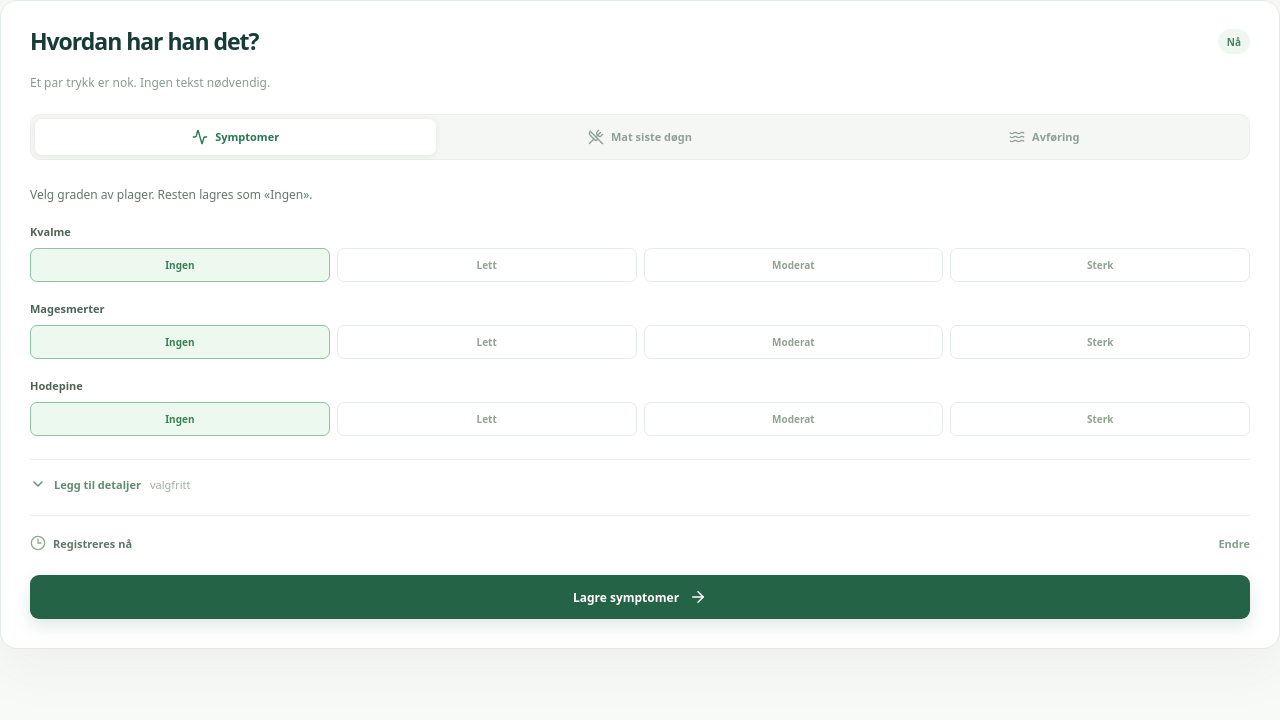
entry form navigation › keeps the form locked until an in-flight save completes
Check: the element named "Når?" is not empty, box [30, 515, 1250, 554]
Click the button "Lagre symptomer": x=640, y=597 [30, 575, 1250, 619]
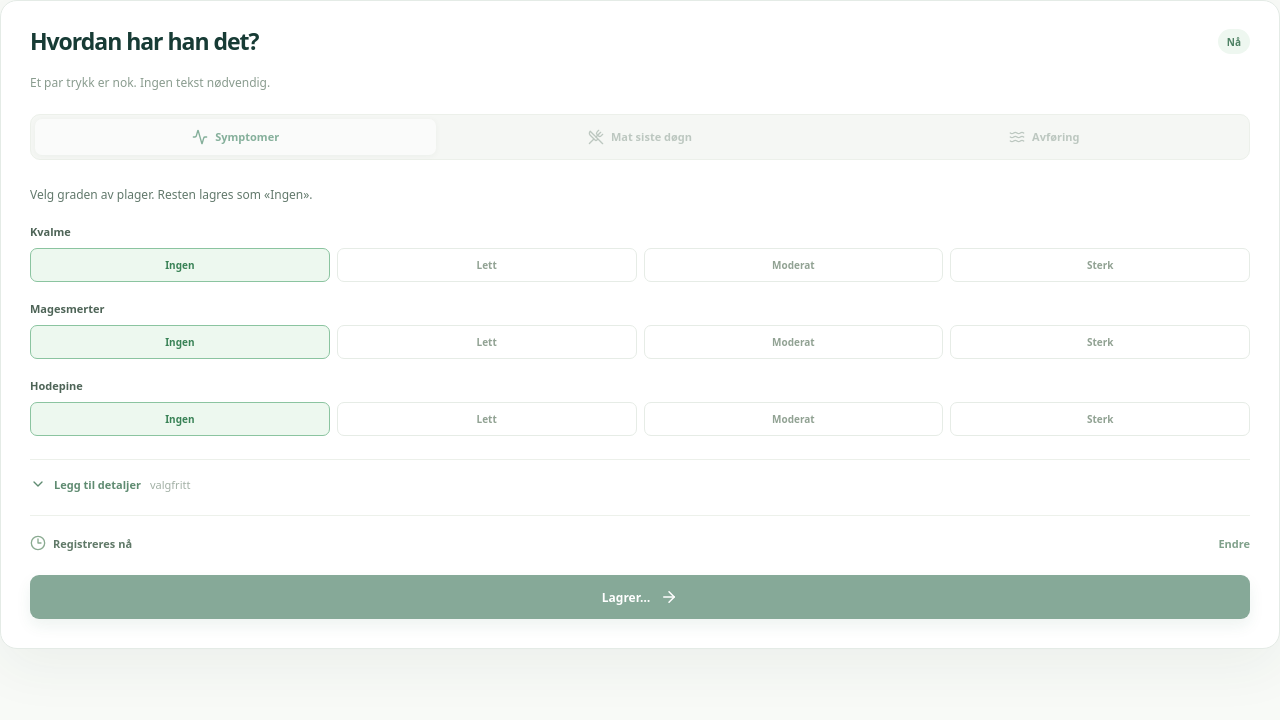
Check: the element named "Når?" is disabled, box [30, 186, 1250, 554]
Check: the tab "Mat siste døgn" is disabled
Click the tab "Mat siste døgn": x=640, y=137 [439, 119, 841, 155]
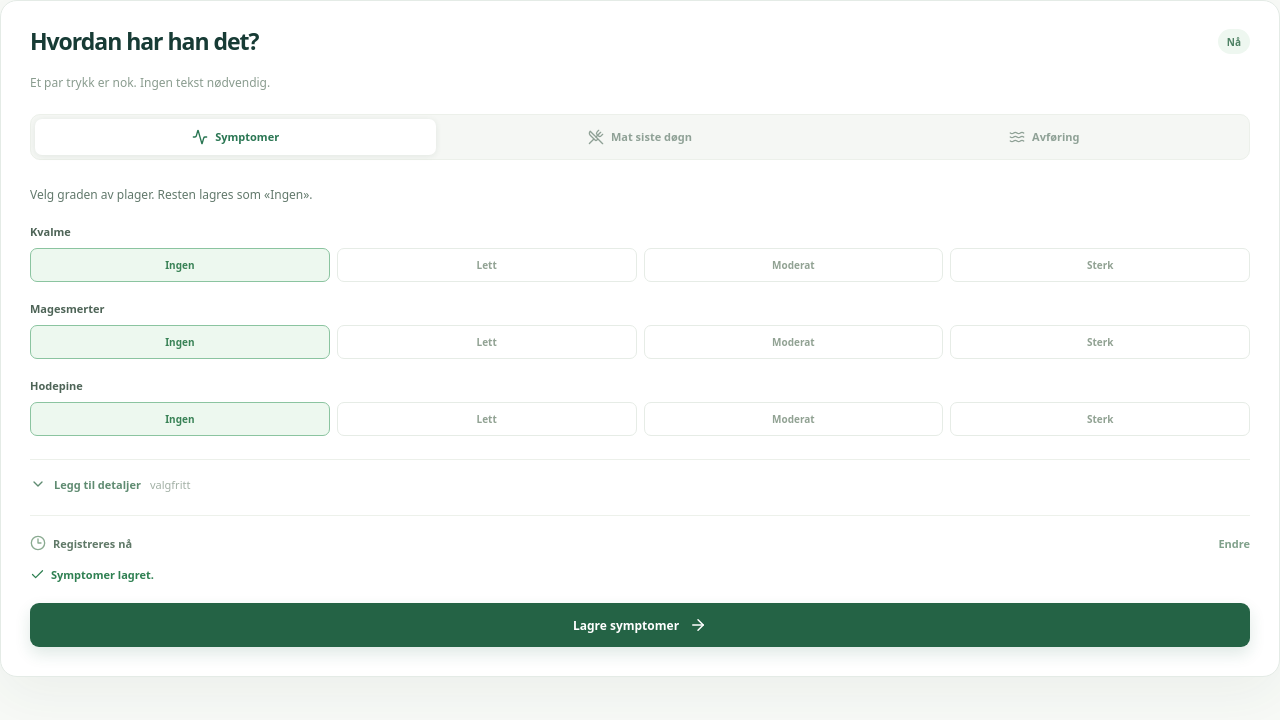
Check: the tab "Mat siste døgn" is enabled
Click the tab "Mat siste døgn": x=640, y=137 [439, 119, 841, 155]
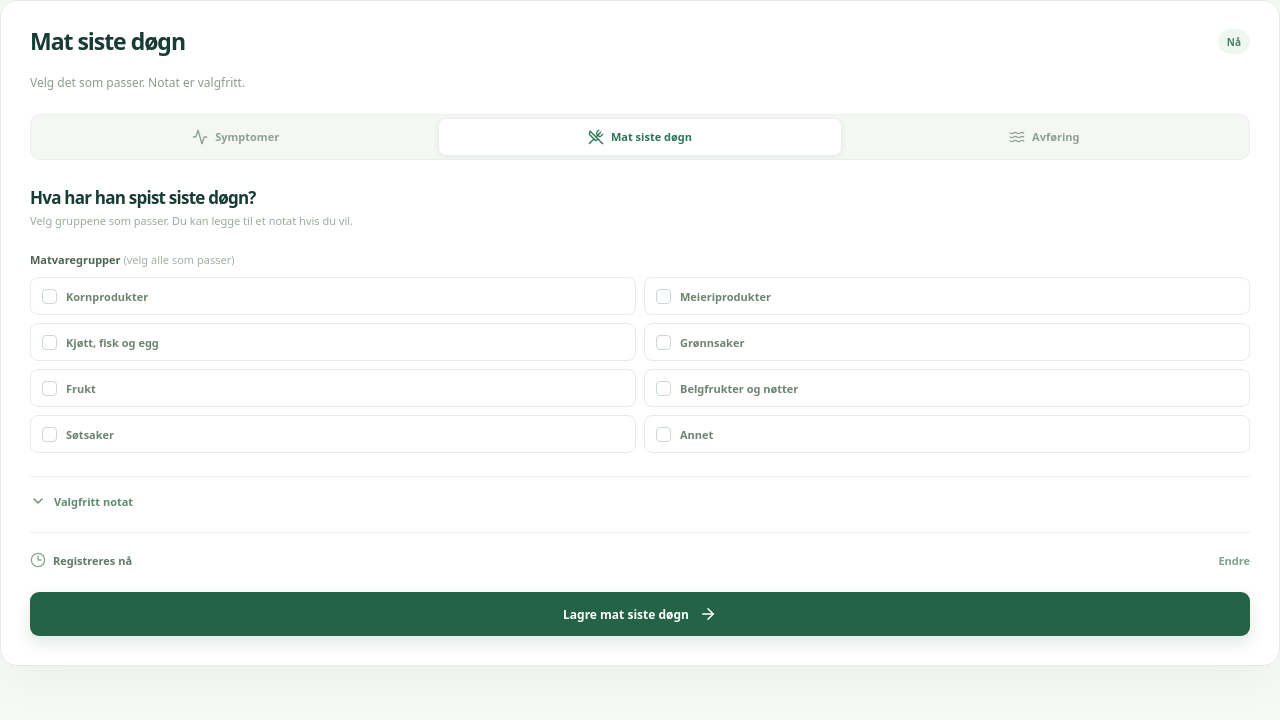
Check: the element named "Matvaregrupper" is shown, box [30, 277, 1250, 453]
